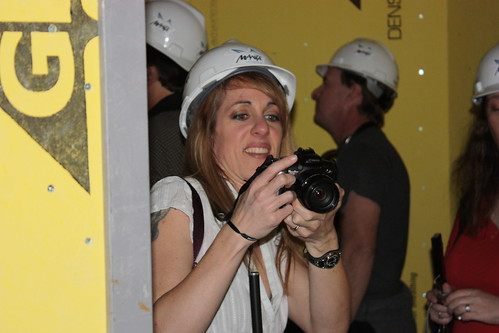person hardhat: (151, 41, 352, 333), (308, 36, 415, 331), (437, 44, 499, 333), (144, 1, 203, 176)
